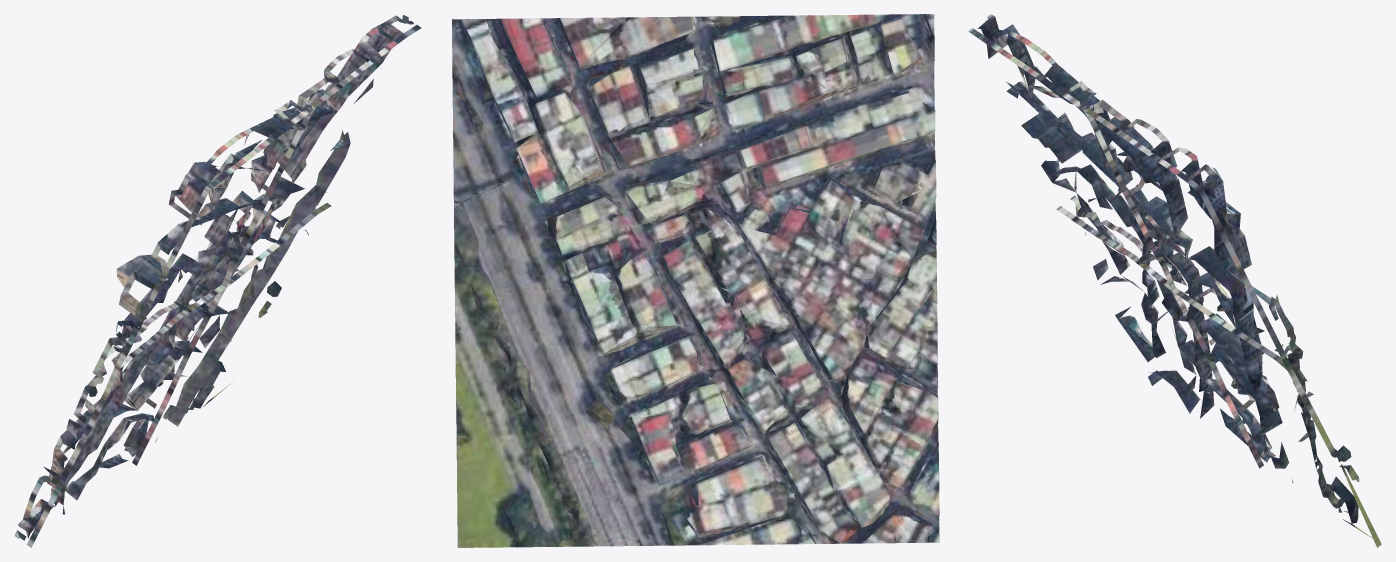
3 views of the same model, side by side, from view 1: azimuth 30°, elevation 25°; view 2: azimuth 150°, elevation 25°; view 3: azimuth 270°, elevation 25° (orthographic). The views are drawn at different scales.
Size of the model in its own units: 310 by 284 by 257.
Materials: 2 (2 with a texture image).
